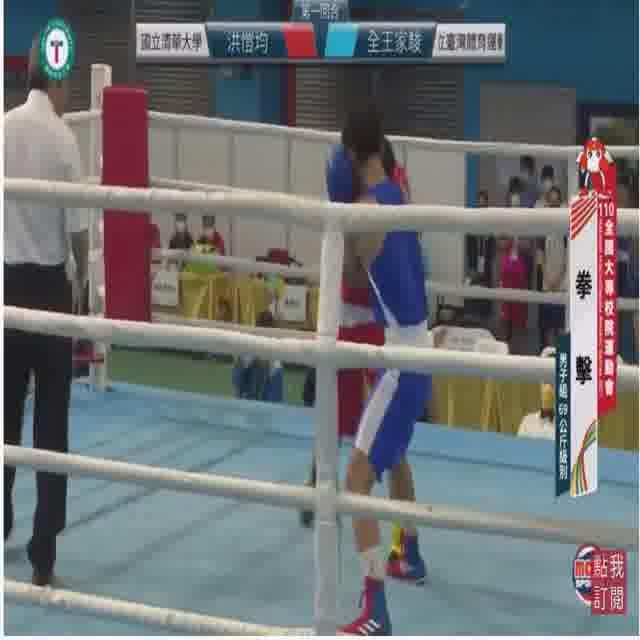blue-player: (326, 107, 432, 636)
red-player: (297, 127, 413, 568)
referee: (4, 32, 90, 590)
